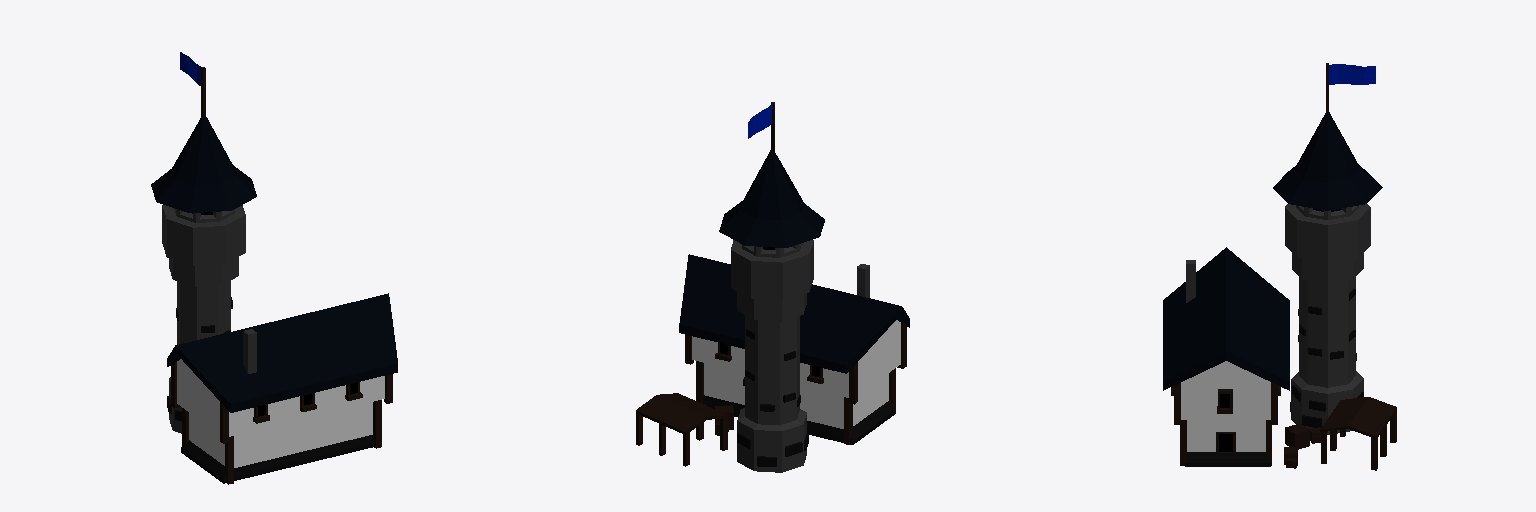
Rendered from townCenter.obj.
The picture shows the model from 3 angles: view 1: azimuth 30°, elevation 25°; view 2: azimuth 150°, elevation 25°; view 3: azimuth 270°, elevation 25°; orthographic projection.
Parts seen in each view (by area): view 1: PointyTower_Cylinder; view 2: PointyTower_Cylinder; view 3: PointyTower_Cylinder.
Part boxes in pixels (x1,y1,x2,y2): PointyTower_Cylinder: (151,52,397,484); PointyTower_Cylinder: (636,102,909,472); PointyTower_Cylinder: (1163,63,1396,470).
Bounding box in the file's own units: 5.91 × 9.35 × 5.57.